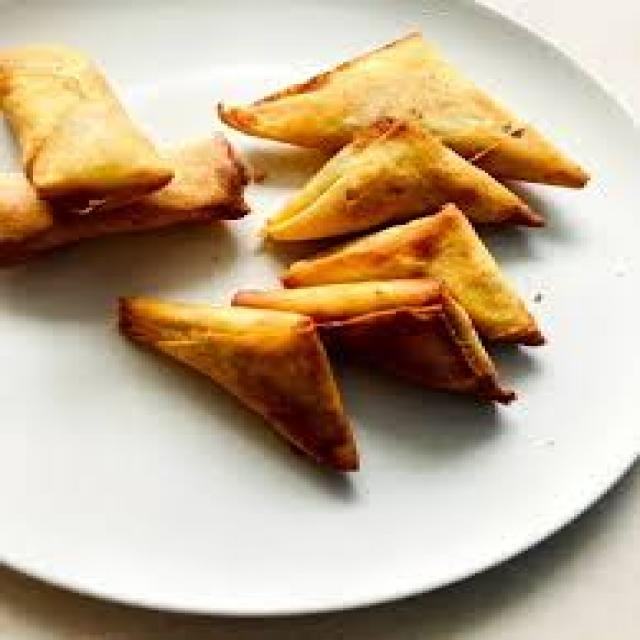Samosa: (198, 22, 587, 467)
Spring Rolls: (1, 29, 247, 260)
